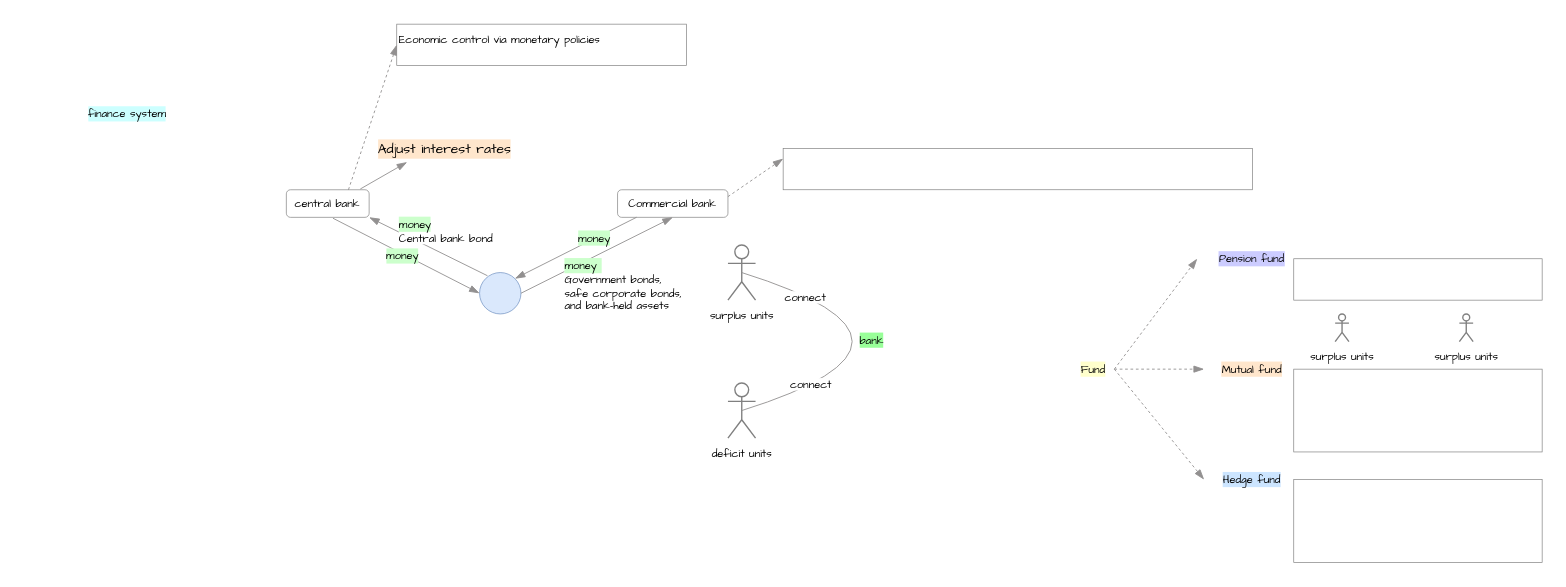
This 1566x587 diagram has some shape labels left out. Here are the shapes that lost their labels. From the top down, the centre of each, then its label:
At [1017,168]: "Banks enhance the circulation of money, accelerating economic activity".
At [500,293]: "QT".
